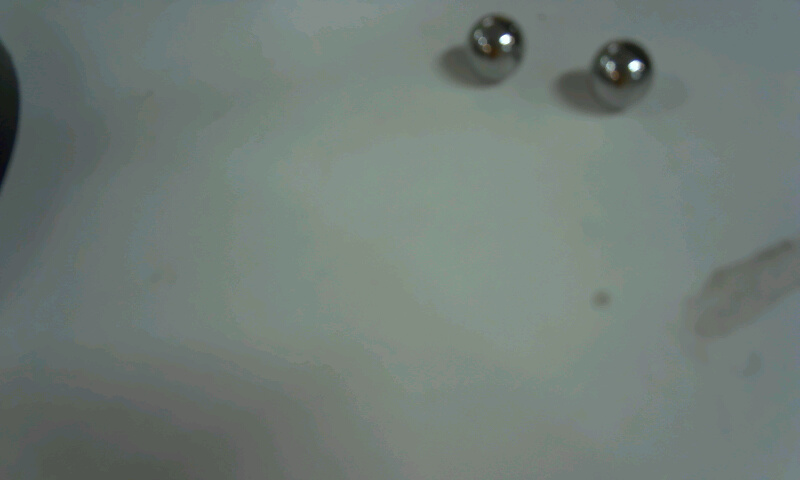steelball: (586, 28, 664, 120), (458, 10, 542, 94)
